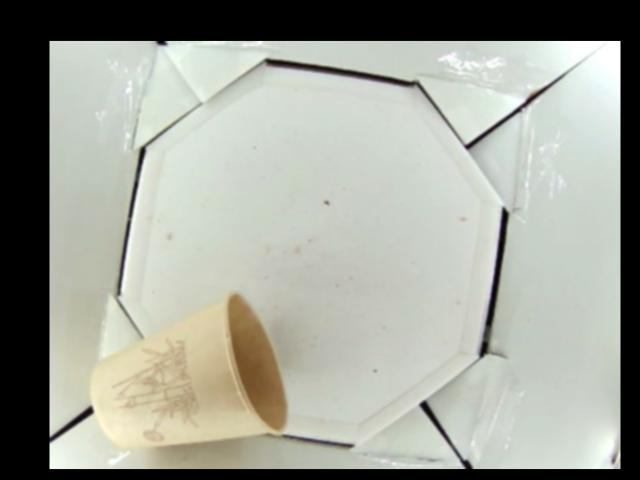Cup: (90, 291, 288, 450)
